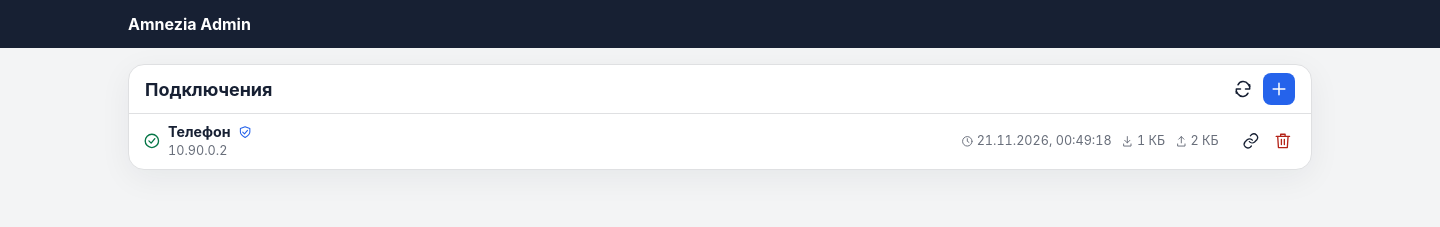
Test: App › keeps the list during refresh and ignores stale replies after deleting
Expected: the text "Телефон" is shown, x1=168 y1=121 x2=231 y2=142
Click the button named "Обновить" at [1243, 89], box x1=1227 y1=73 x2=1259 y2=105
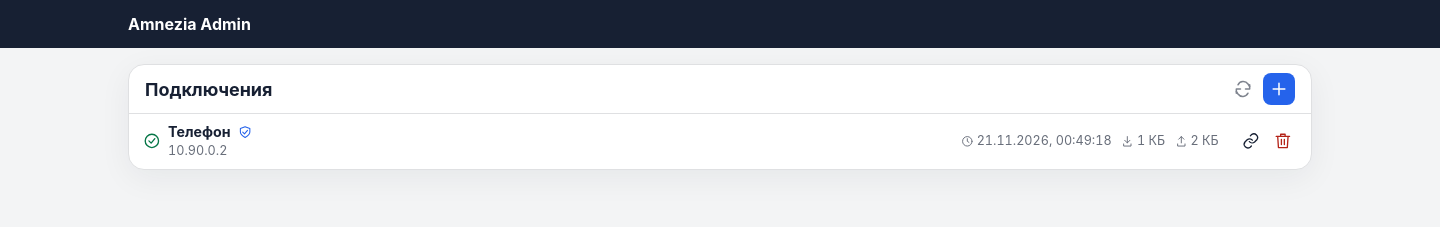
Expected: the text "Телефон" is shown, x1=168 y1=121 x2=231 y2=142
Expected: the button named "Обновление…" is disabled, x1=1227 y1=73 x2=1259 y2=105
Click the button named "Удалить подключение" at [1282, 141], box x1=1268 y1=127 x2=1297 y2=155
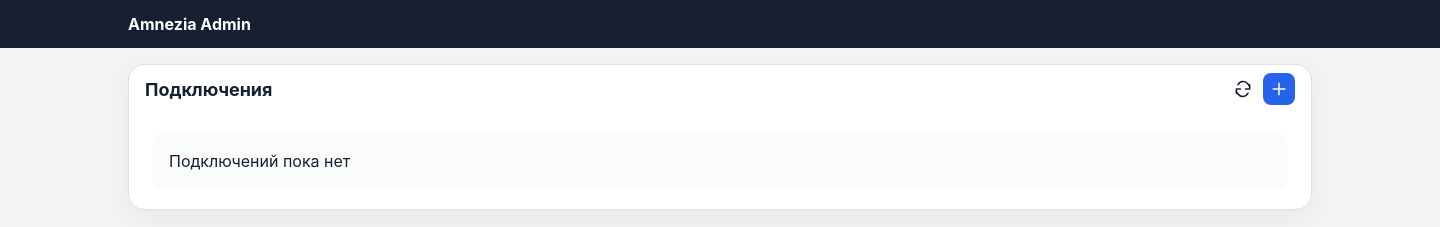
Expected: the text "Подключений пока нет" is shown, x1=153 y1=133 x2=1287 y2=189
Expected: the text "Телефон" is gone
